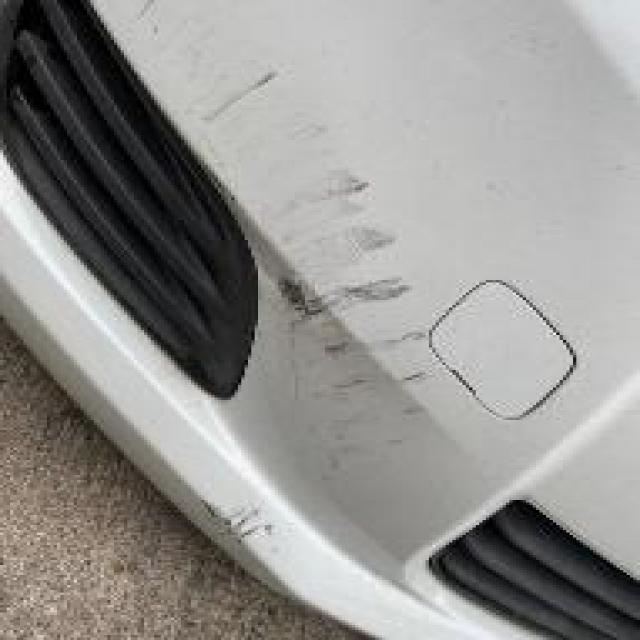Bumper: (124, 2, 516, 580)
